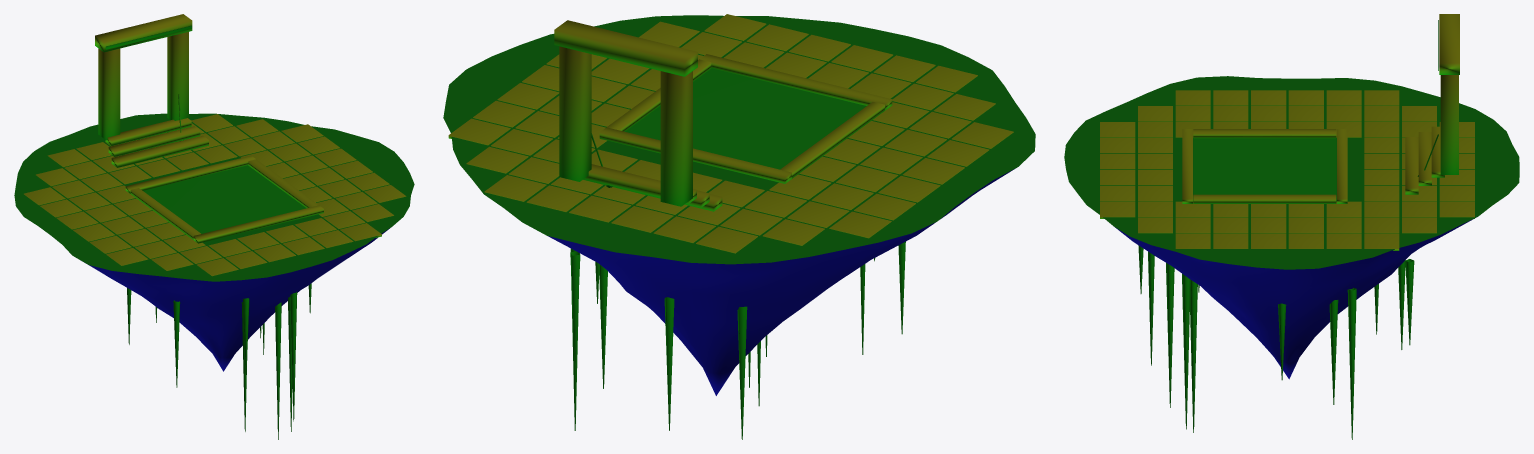
File: memory_square.glb
The picture shows the model from 3 angles, left to right: view 1: azimuth 30°, elevation 25°; view 2: azimuth 150°, elevation 25°; view 3: azimuth 270°, elevation 25°; orthographic projection. The views are drawn at different scales.
Visible parts, largest first — view 1: memory_square; view 2: memory_square; view 3: memory_square.
Part boxes in pixels (x1,y1,x2,y2): memory_square: (14, 14, 414, 439); memory_square: (443, 14, 1035, 439); memory_square: (1064, 14, 1519, 439).
Size of what is drawn, in the model's own units: 12.15 by 11.17 by 12.07.
